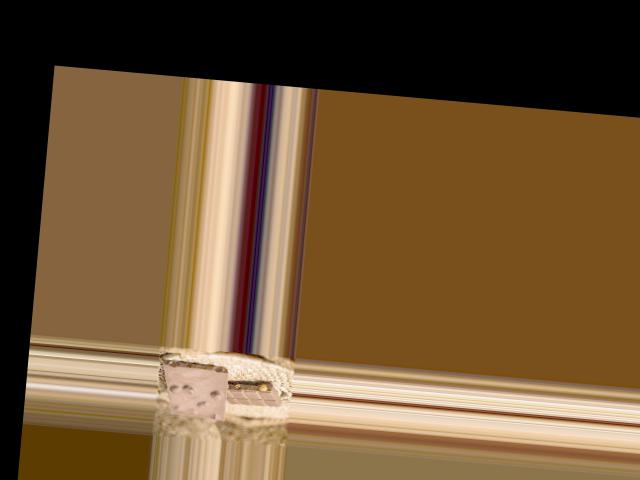chocolate: (158, 360, 233, 422)
